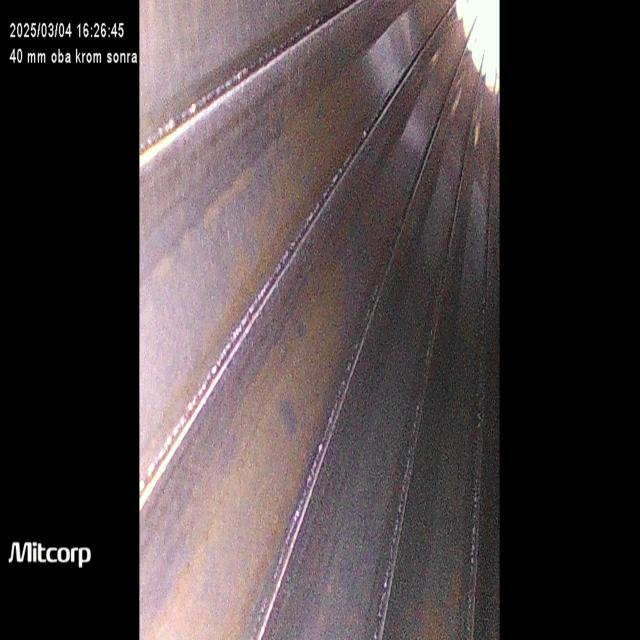hata_8.2: (265, 382, 315, 450), (285, 307, 327, 357)
